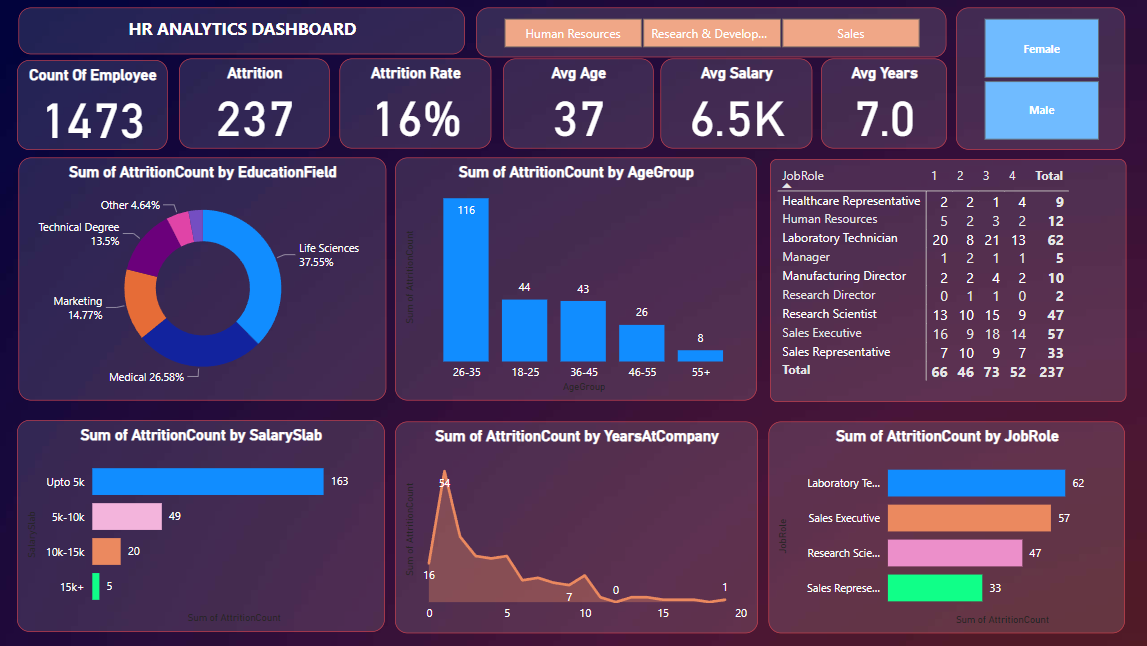

The page's visual inventory and layout, read from the dashboard file:
{"tool":"powerbi","page":{"name":"Page 1","canvas":[1280,720],"ordinal":0},"visuals":[{"type":"card","title":"Count Of Employee","fields":{"Values":["Sum(HR_Analytics.EmployeeCount)"]},"box":[20,66.2,167.5,100],"z":0},{"type":"card","title":"Attrition","fields":{"Values":["Sum(HR_Analytics.AttritionCount)"]},"box":[200,65.7,167.1,100],"z":1000},{"type":"card","title":"Attrition Rate","fields":{"Values":["HR_Analytics.AttritionRate"]},"box":[378.6,65.7,168.6,100],"z":2000},{"type":"card","title":"Avg Age","fields":{"Values":["Avg(HR_Analytics.Age)"]},"box":[560,65.7,167.1,100],"z":3000},{"type":"card","title":"Avg Salary","fields":{"Values":["Avg(HR_Analytics.MonthlyIncome)"]},"box":[735.7,65.7,168.6,100],"z":4000},{"type":"card","title":"Avg Years","fields":{"Values":["Avg(HR_Analytics.YearsAtCompany)"]},"box":[912.9,65.7,140,100],"z":5000},{"type":"donutChart","fields":{"Category":["HR_Analytics.EducationField"],"Y":["Sum(HR_Analytics.AttritionCount)"]},"box":[21.7,175,408.3,270],"z":6000},{"type":"columnChart","fields":{"Category":["HR_Analytics.AgeGroup"],"Y":["Sum(HR_Analytics.AttritionCount)"]},"box":[440,175,401.7,270],"z":7000},{"type":"pivotTable","fields":{"Rows":["HR_Analytics.JobRole"],"Columns":["HR_Analytics.JobSatisfaction"],"Values":["Sum(HR_Analytics.AttritionCount)"]},"box":[856,176,396,270],"z":8000},{"type":"barChart","fields":{"Category":["HR_Analytics.SalarySlab"],"Y":["Sum(HR_Analytics.AttritionCount)"]},"box":[20,466.7,408.3,235],"z":9000},{"type":"areaChart","fields":{"Category":["HR_Analytics.YearsAtCompany"],"Y":["Sum(HR_Analytics.AttritionCount)"]},"box":[440,468.3,403.3,235],"z":10000},{"type":"slicer","fields":{"Values":["HR_Analytics.Gender"]},"box":[1064,8,188,158],"z":11000},{"type":"barChart","fields":{"Y":["Sum(HR_Analytics.AttritionCount)"],"Category":["HR_Analytics.JobRole"]},"box":[855,468.8,396.2,235],"z":12000},{"type":"textbox","box":[22,8,496,52],"z":13000},{"type":"slicer","fields":{"Values":["HR_Analytics.Department"]},"box":[530,7.5,522.5,55],"z":14000}]}

Visuals, with their boxes in screenshot pixels (x1, y1, x2, y2), scaled from the page's 1280x720 canvas onto the 1147x646 screenshot:
"Count Of Employee" card: (18,59,168,149)
"Attrition" card: (179,59,329,149)
"Attrition Rate" card: (339,59,490,149)
"Avg Age" card: (502,59,652,149)
"Avg Salary" card: (659,59,810,149)
"Avg Years" card: (818,59,943,149)
donutChart - HR_Analytics.EducationField x Sum(HR_Analytics.AttritionCount): (19,157,385,399)
columnChart - HR_Analytics.AgeGroup x Sum(HR_Analytics.AttritionCount): (394,157,754,399)
pivotTable - HR_Analytics.JobRole x HR_Analytics.JobSatisfaction: (767,158,1122,400)
barChart - HR_Analytics.SalarySlab x Sum(HR_Analytics.AttritionCount): (18,419,384,630)
areaChart - HR_Analytics.YearsAtCompany x Sum(HR_Analytics.AttritionCount): (394,420,756,631)
slicer - HR_Analytics.Gender: (953,7,1122,149)
barChart - Sum(HR_Analytics.AttritionCount) x HR_Analytics.JobRole: (766,421,1121,631)
textbox: (20,7,464,54)
slicer - HR_Analytics.Department: (475,7,943,56)
